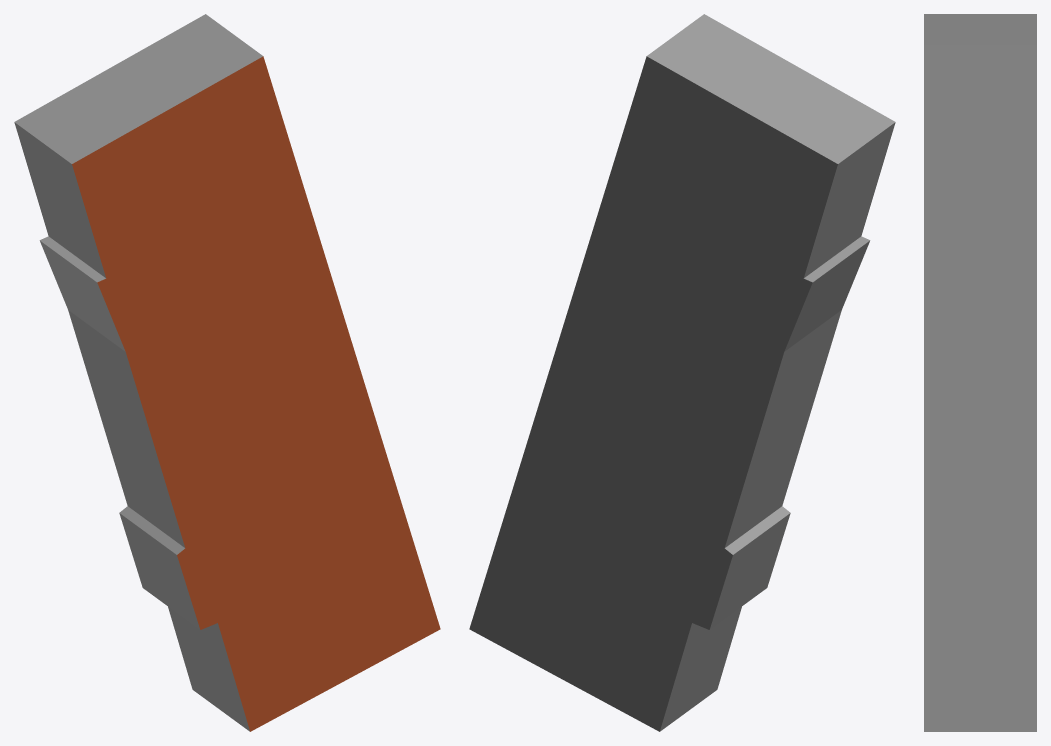
Rendered from construction_5439_assumed_A_Casa_h6m.obj.
3 views of the same model, side by side, from view 1: azimuth 30°, elevation 25°; view 2: azimuth 150°, elevation 25°; view 3: azimuth 270°, elevation 25° (orthographic). The views are drawn at different scales.
Parts seen in each view (by area): view 1: construction_5439_assumed_A_Casa; view 2: construction_5439_assumed_A_Casa; view 3: construction_5439_assumed_A_Casa.
Part boxes in pixels (box(x1,y1,x2,y2)): construction_5439_assumed_A_Casa: box(14, 14, 440, 731); construction_5439_assumed_A_Casa: box(469, 14, 895, 731); construction_5439_assumed_A_Casa: box(924, 14, 1036, 731).
Bounding box in the file's own units: 22.14 × 38.59 × 6.
